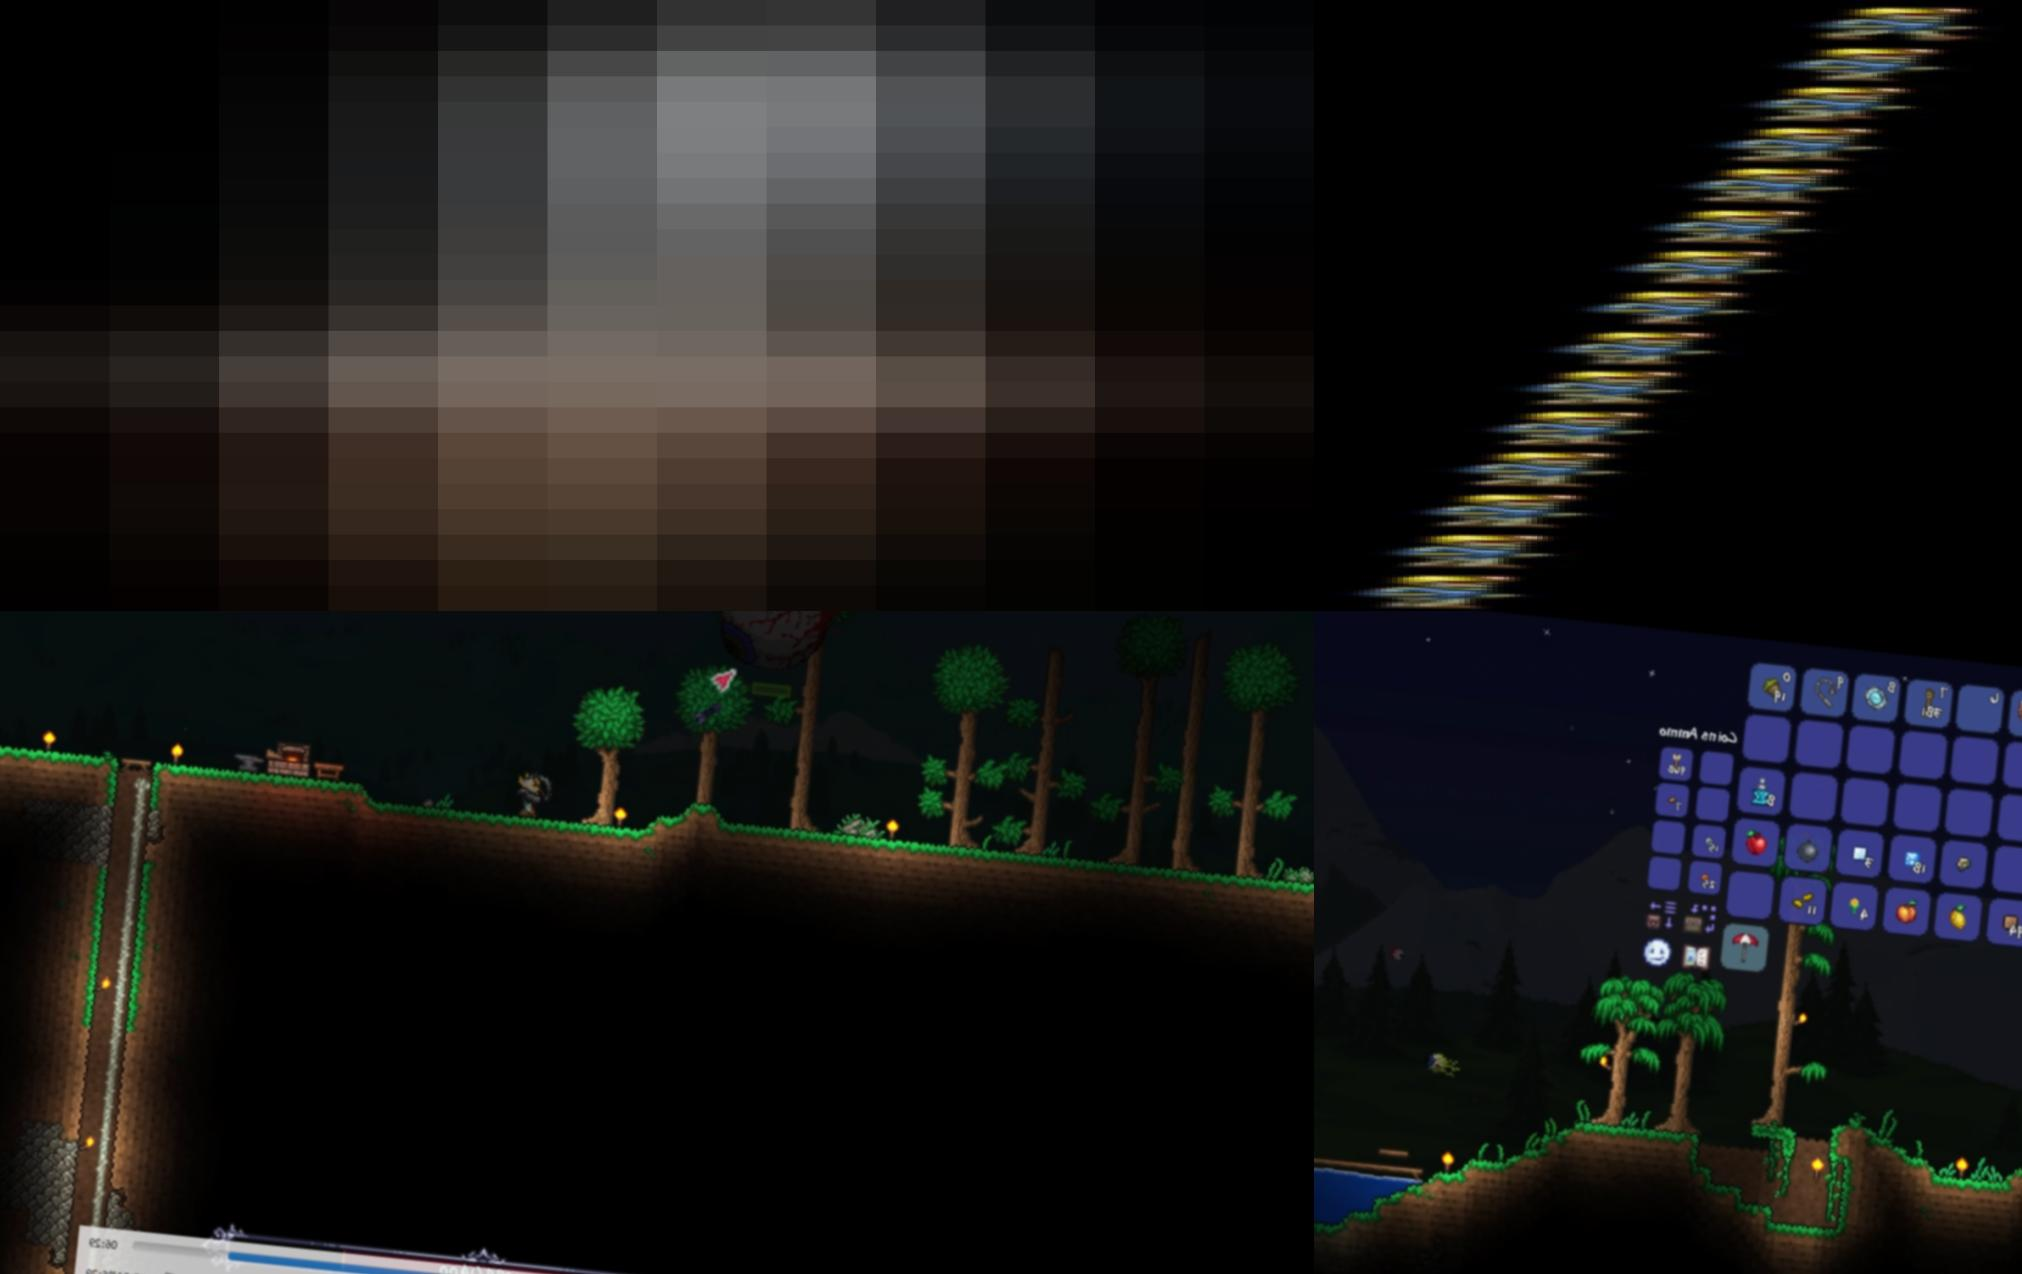eye: (1412, 1046, 1469, 1083)
eyeC: (710, 611, 847, 681)
knife: (0, 0, 1313, 611)
zombie: (1786, 4, 2013, 44)
